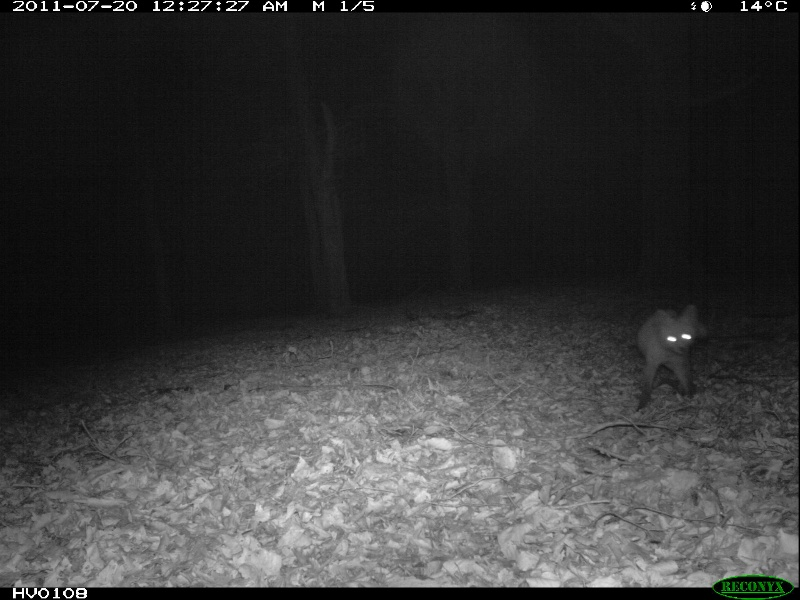fox: (628, 298, 713, 416)
